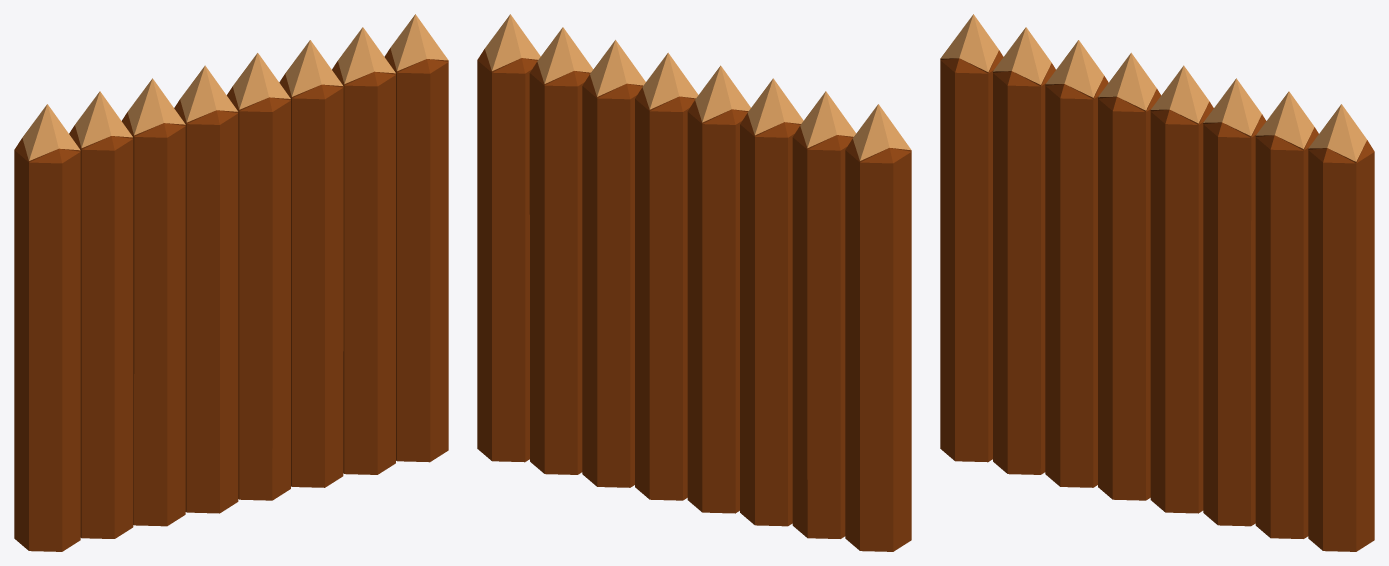
File: wooden_wall.dae
The picture shows the model from 3 angles, left to right: view 1: azimuth 30°, elevation 25°; view 2: azimuth 150°, elevation 25°; view 3: azimuth 330°, elevation 25°; orthographic projection.
Parts seen in each view (by area): view 1: wall; view 2: wall; view 3: wall.
Part boxes in pixels (bbox=[...]): wall: bbox=[14, 14, 448, 551]; wall: bbox=[477, 14, 911, 551]; wall: bbox=[940, 14, 1374, 551].
Bounding box in the file's own units: 3.47 × 0.4761 × 3.44.
